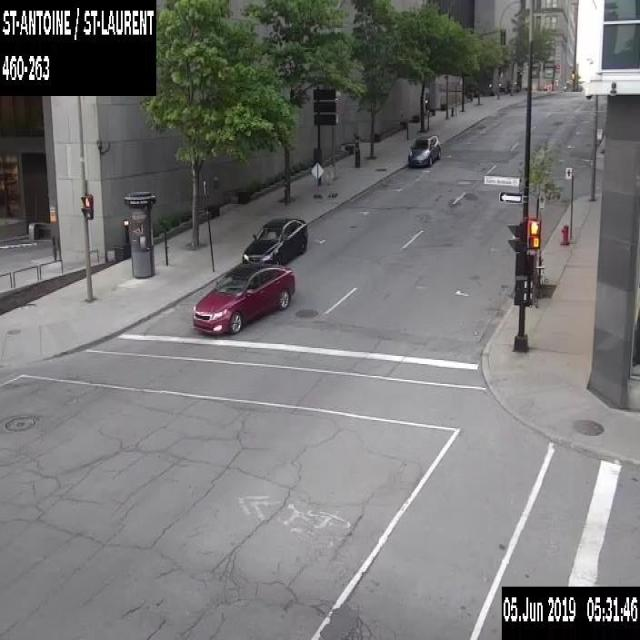construction: (311, 160, 323, 198), (327, 163, 338, 196)
vehicle: (191, 260, 295, 333), (242, 216, 307, 264), (406, 133, 442, 168)
